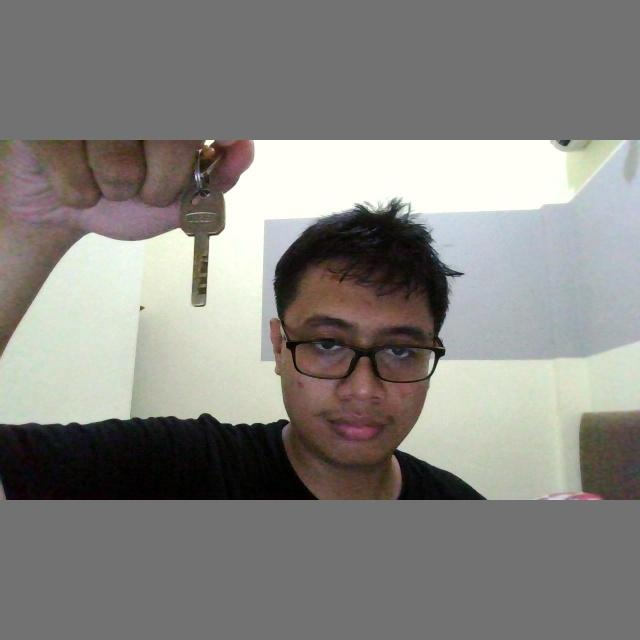Keys: (178, 173, 232, 311)
